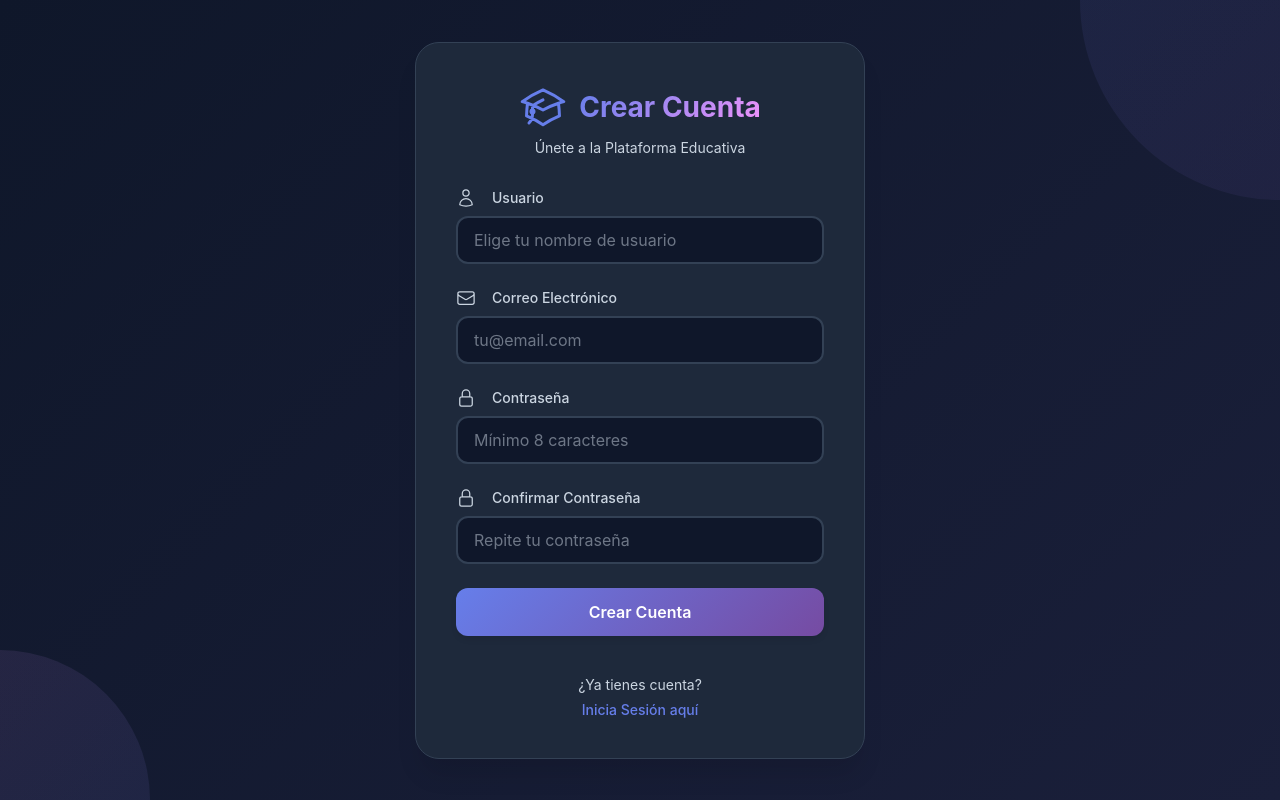
Test: Register Component › Validación de campos › debe mostrar error si el usuario es muy corto
Type "ab" into the field labelled "Usuario" at [640, 240], box [456,216,824,264]
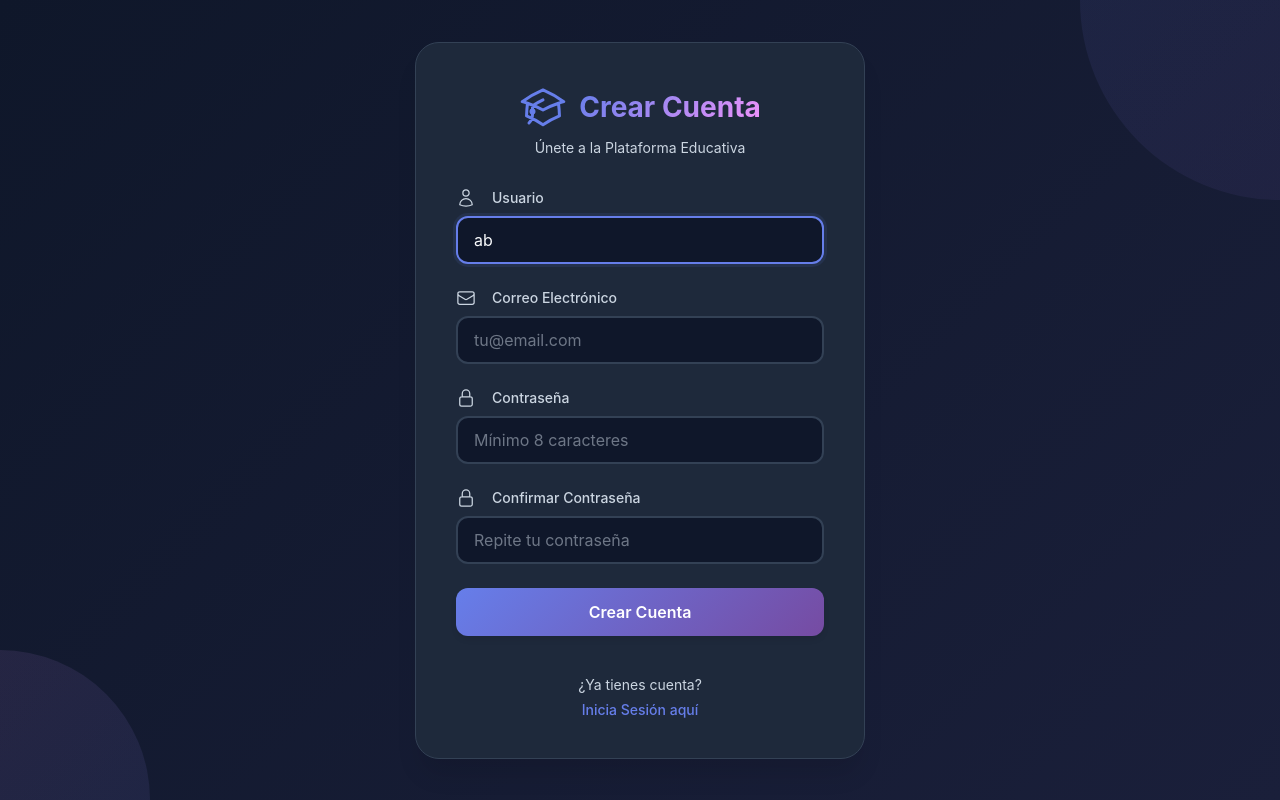
Type "test@example.com" into the field labelled "Correo Electrónico" at [640, 340], box [456,316,824,364]
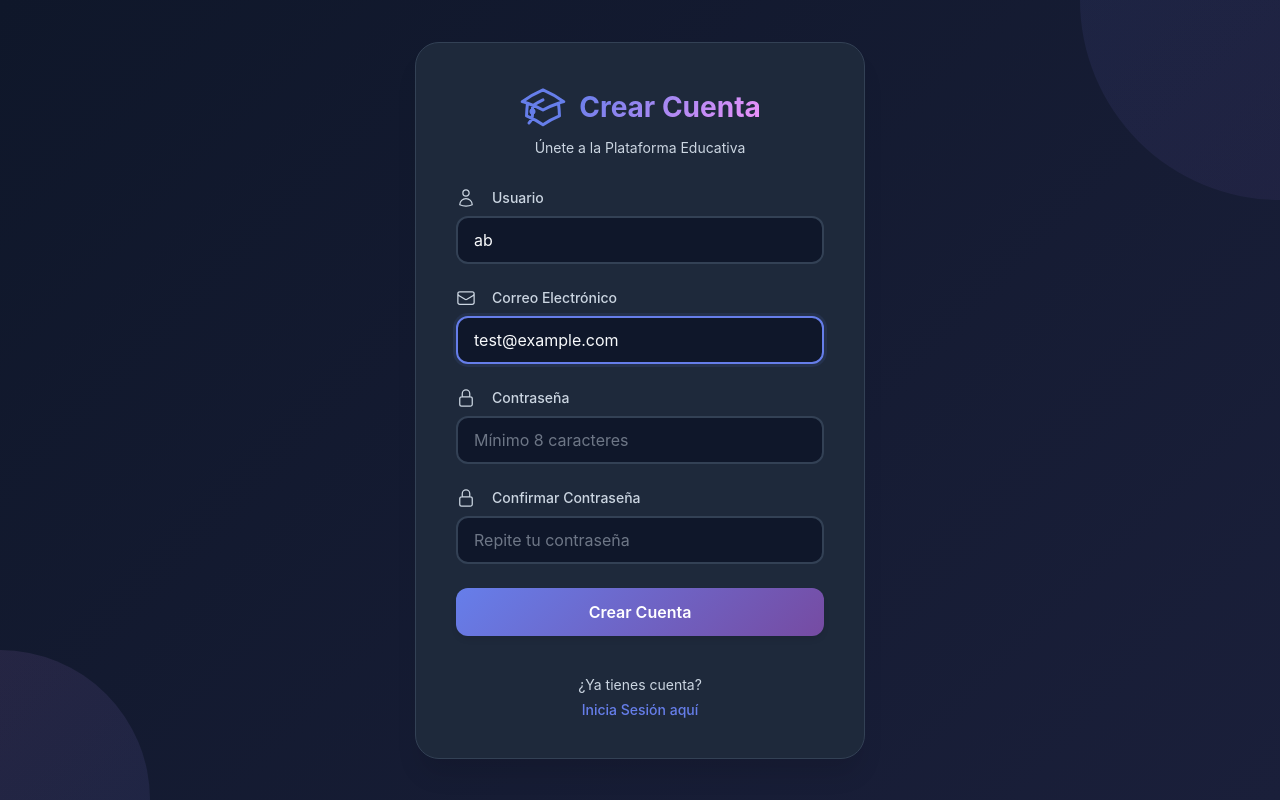
Type "password123" into the password field labelled "Contraseña" at [640, 440], box [456,416,824,464]
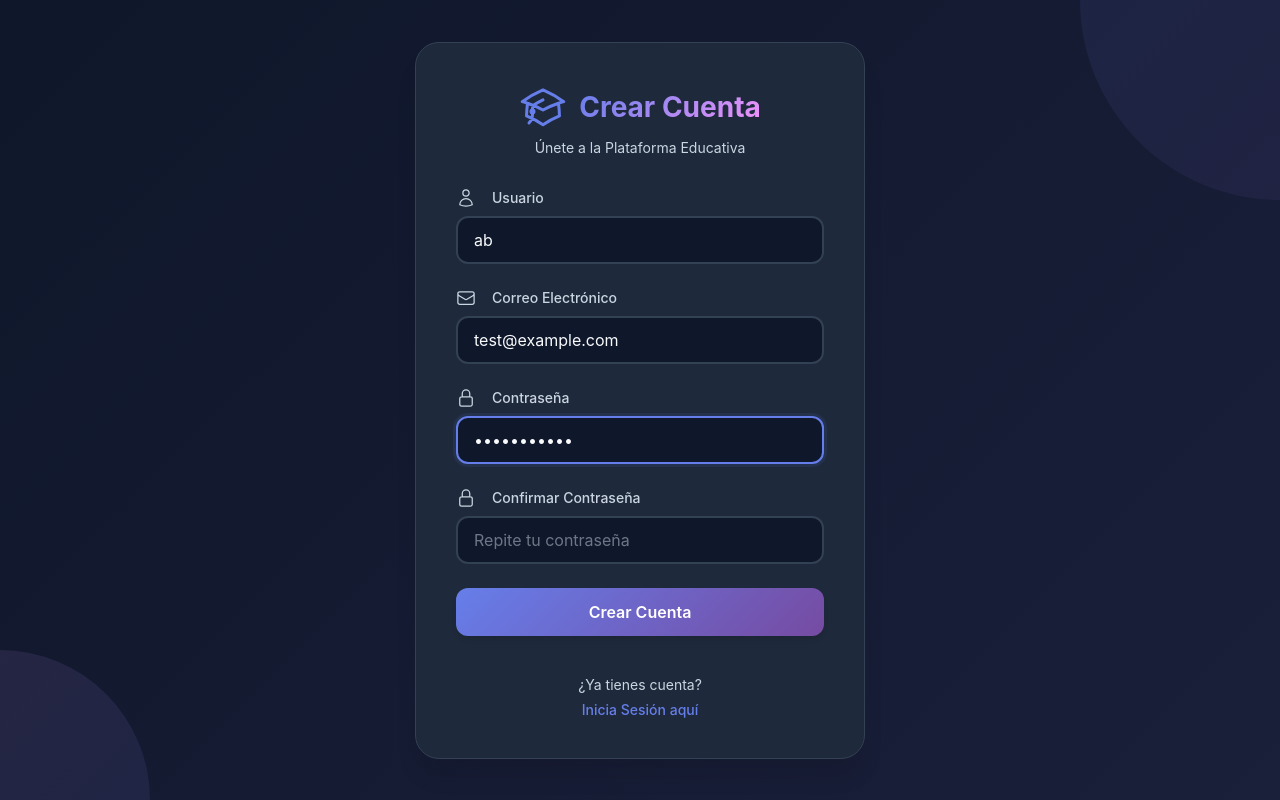
Type "password123" into the password field labelled "Confirmar Contraseña" at [640, 540], box [456,516,824,564]
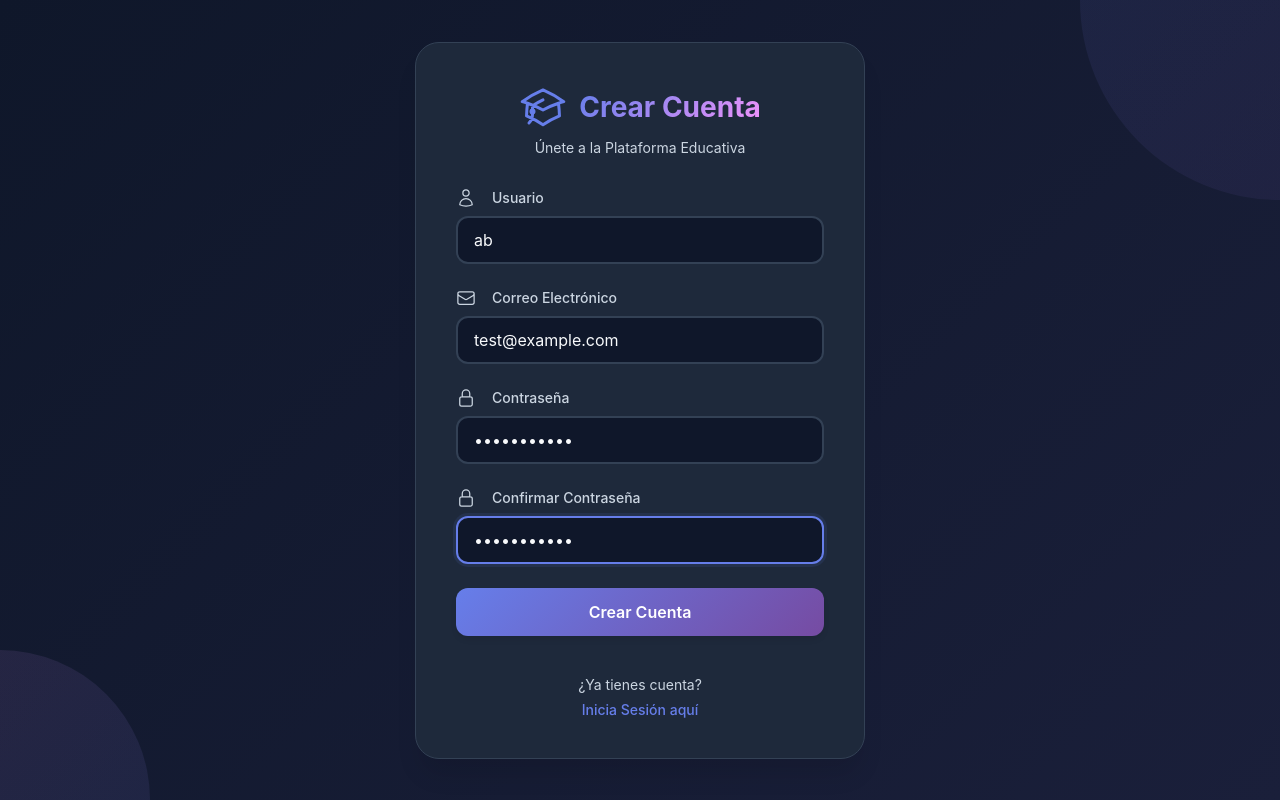
Click the button "Crear Cuenta" at [640, 612], box [456,588,824,636]
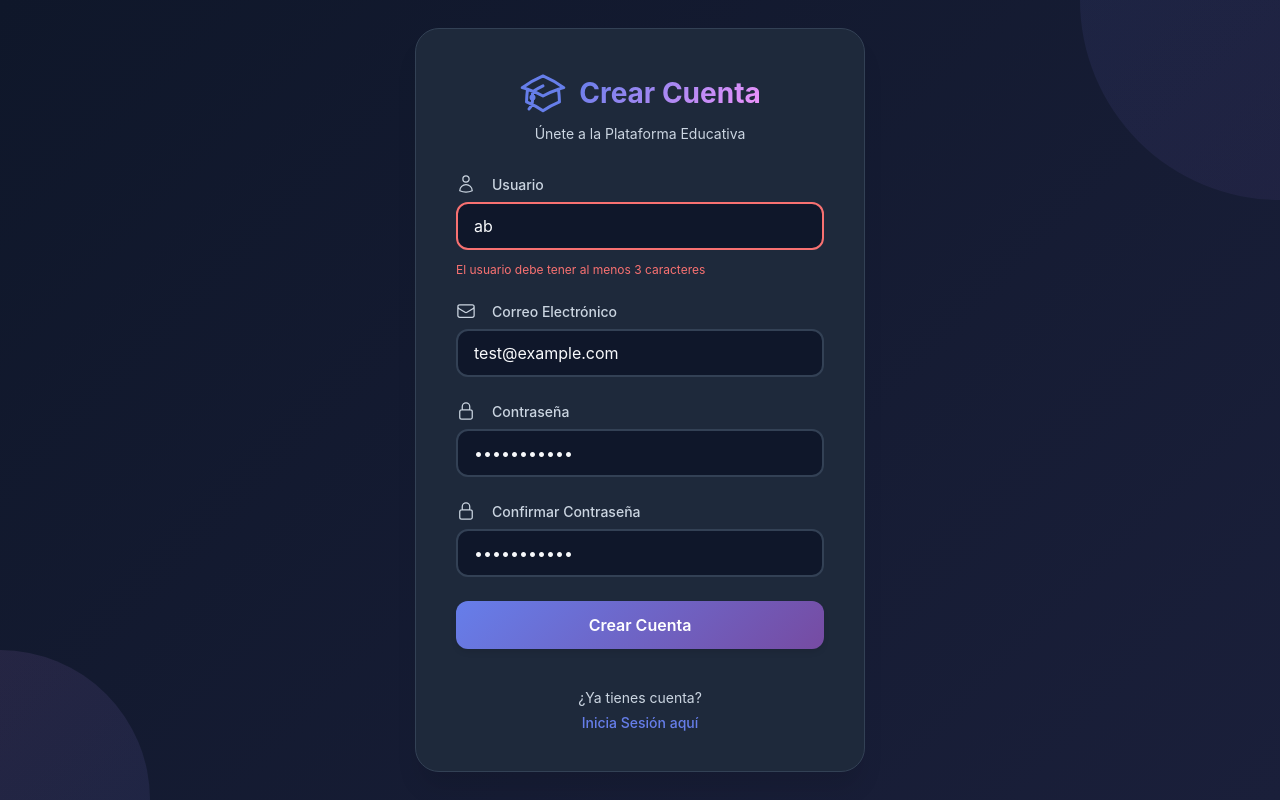
Expected: the text "El usuario debe tener al menos 3 caracteres" is shown, [456,262,705,277]
